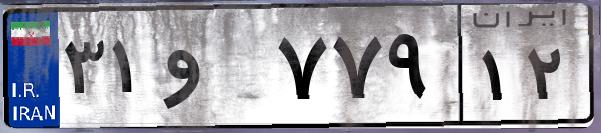1: (475, 38, 525, 113), (110, 28, 158, 98)
2: (525, 38, 570, 115)
3: (57, 26, 110, 100)
7: (270, 28, 330, 110), (330, 28, 385, 110)
9: (385, 28, 445, 110)
و: (158, 20, 270, 120)
